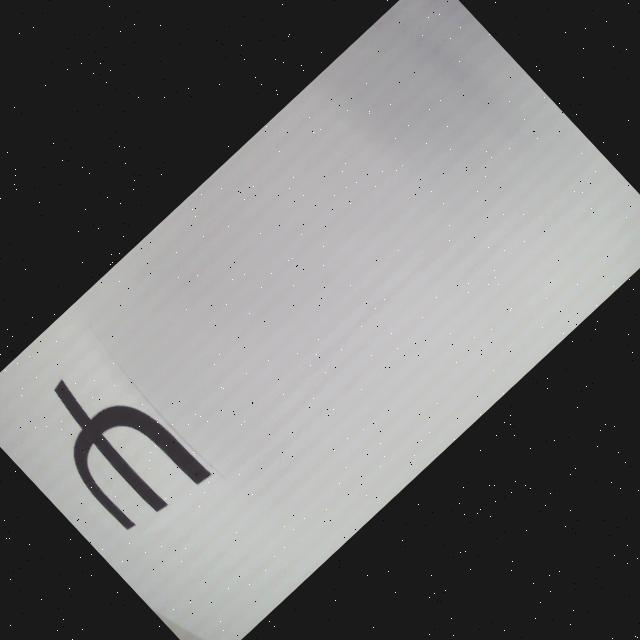PSI: (20, 346, 214, 544)
